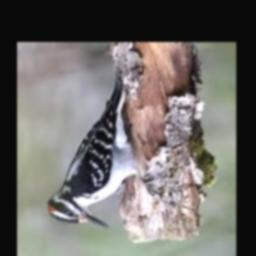Woodpecker: (48, 74, 140, 229)
